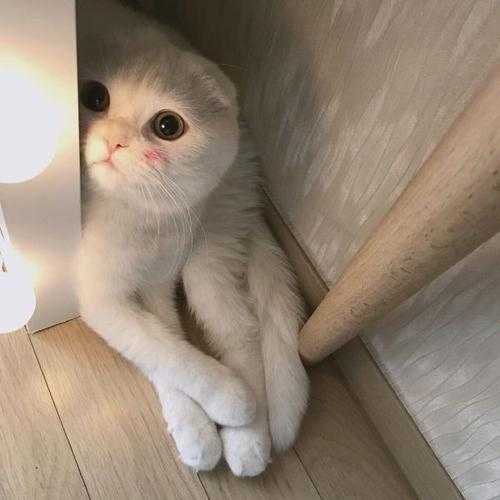cat: (62, 27, 260, 238)
